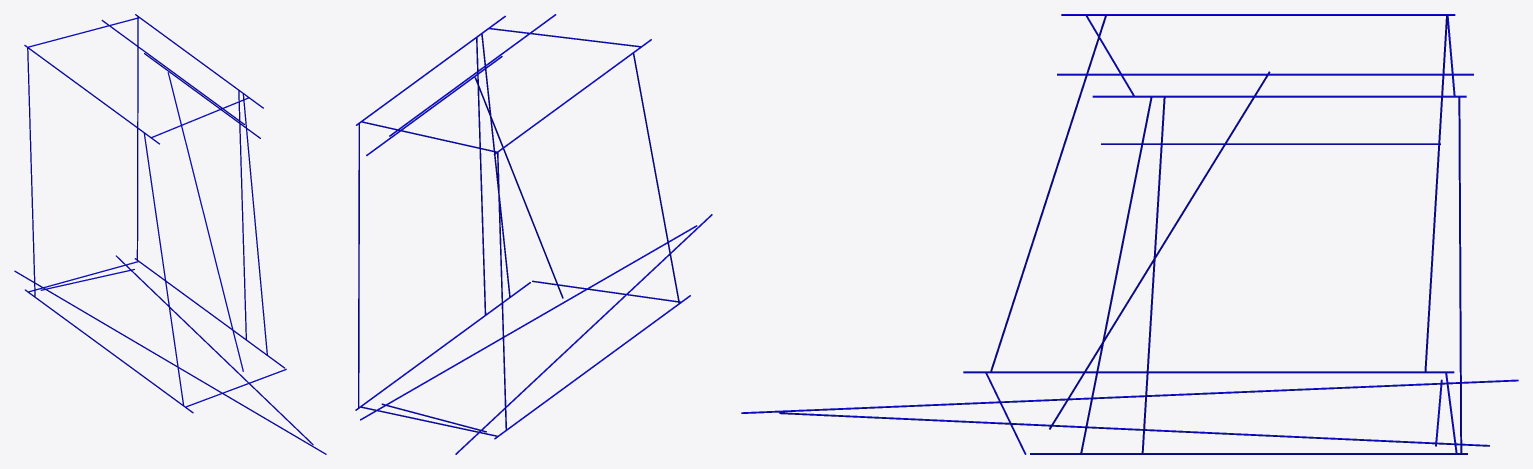
Rendered from corrected_3d_strokes.glb.
3 views of the same model, side by side, from view 1: azimuth 30°, elevation 25°; view 2: azimuth 150°, elevation 25°; view 3: azimuth 270°, elevation 25° (orthographic). The views are drawn at different scales.
Visible parts, largest first — view 1: world; view 2: world; view 3: world.
Part boxes in pixels (left/top/right/bottom): world: left=14, top=14, right=326, bottom=454; world: left=355, top=14, right=712, bottom=454; world: left=741, top=14, right=1518, bottom=454.
Bounding box in the file's own units: 3.94 × 7.99 × 15.67.
